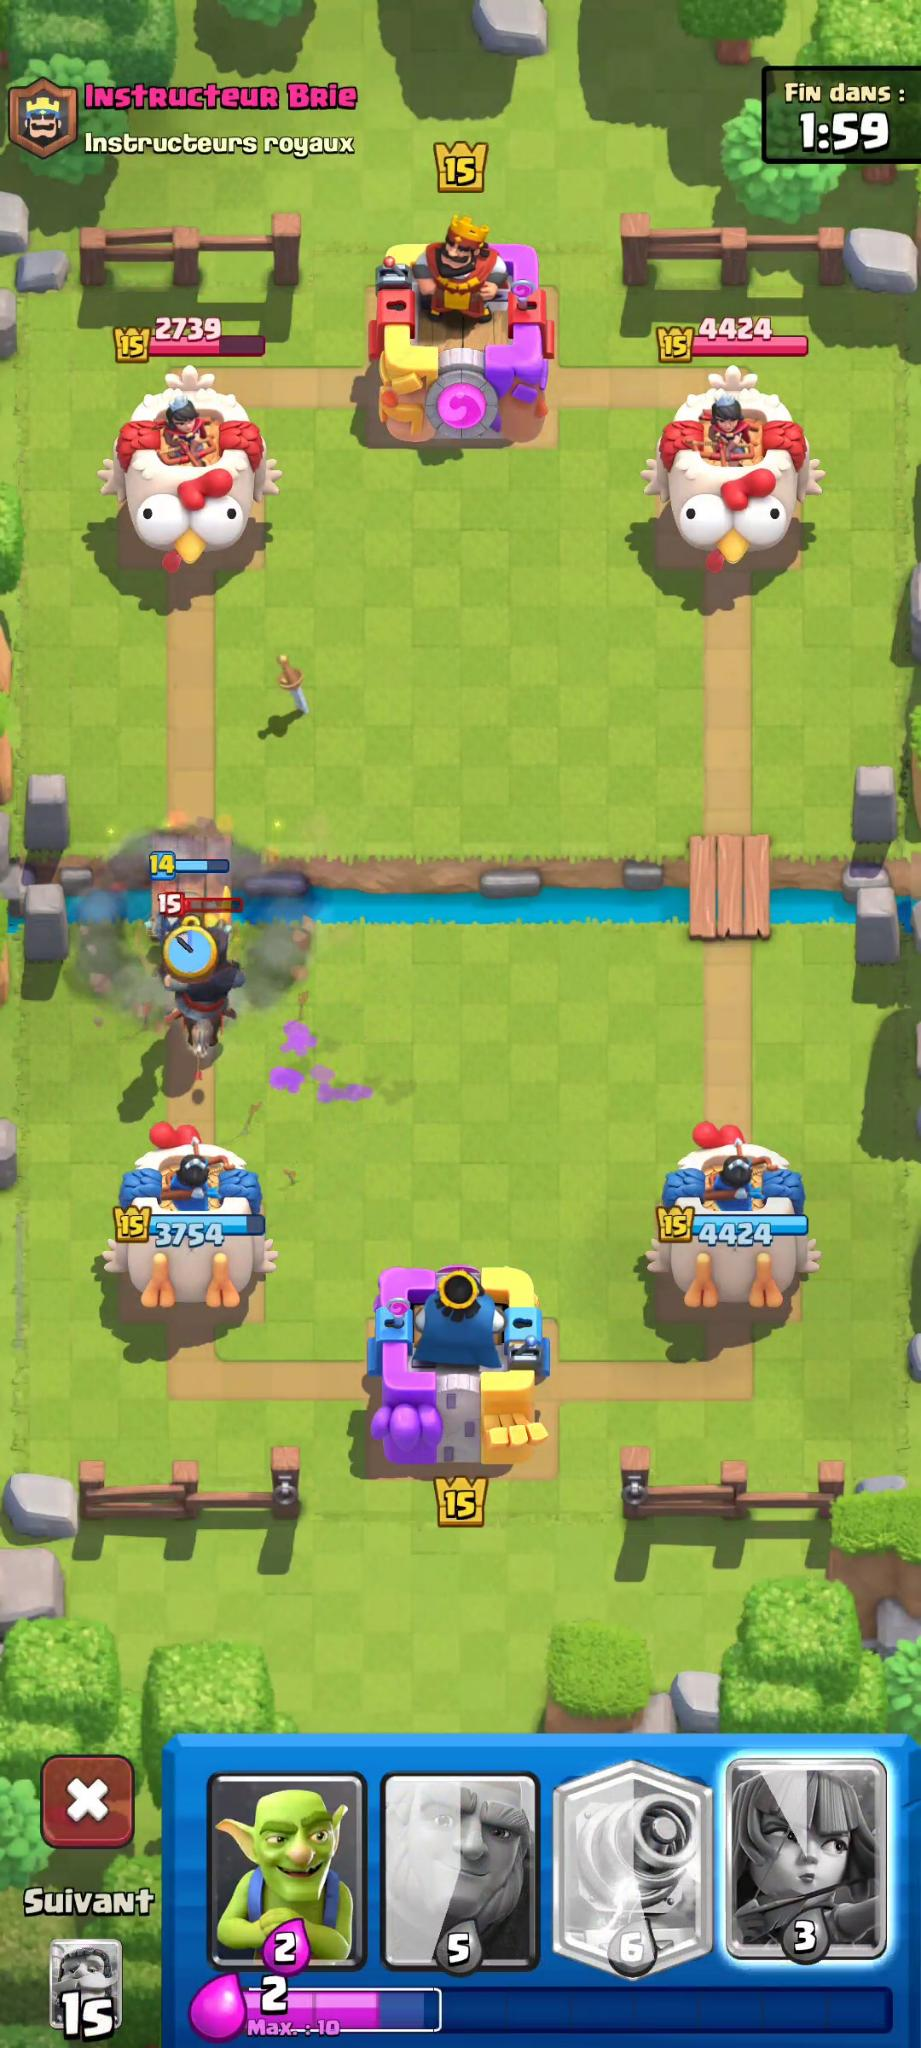mini_PEKKA: (138, 882, 229, 976)
